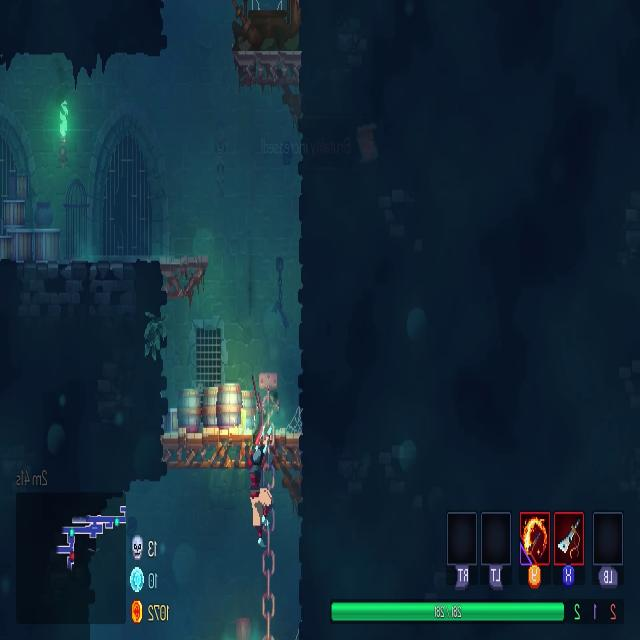agents: (247, 430, 276, 538)
wood_floor: (227, 42, 304, 88), (159, 251, 211, 299)
